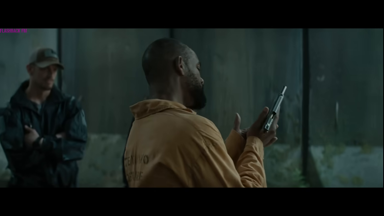firearm: (261, 81, 291, 140)
